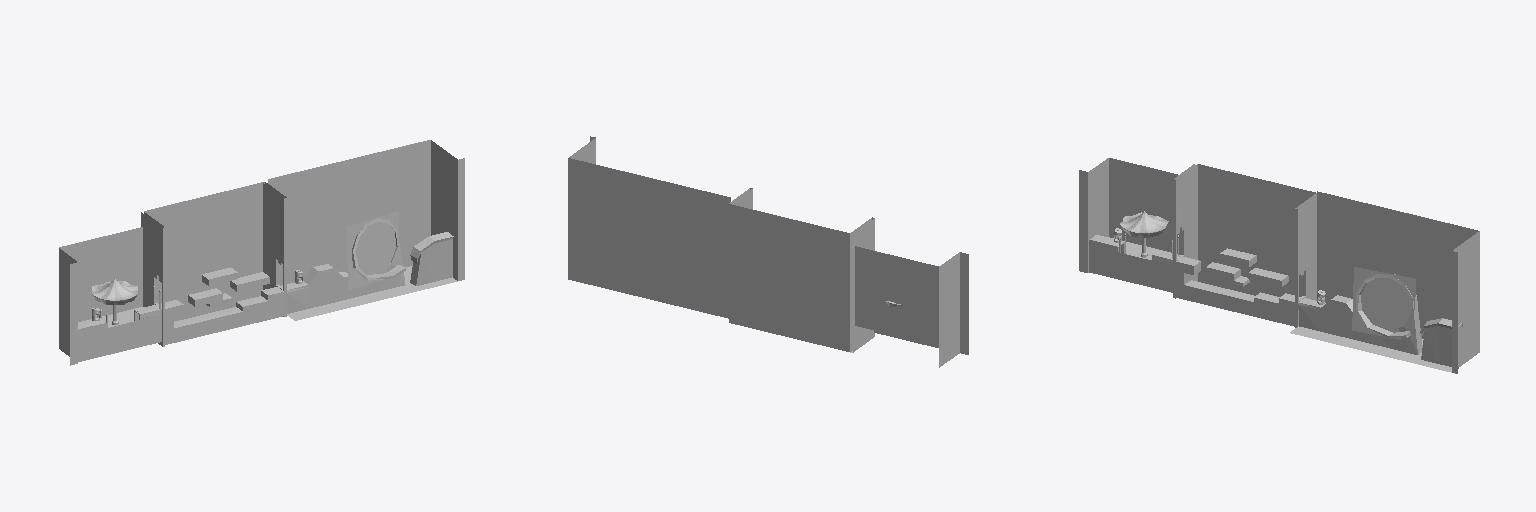
Rendered from 第三關.obj.
The picture shows the model from 3 angles: view 1: azimuth 30°, elevation 25°; view 2: azimuth 150°, elevation 25°; view 3: azimuth 330°, elevation 25°; orthographic projection.
Parts seen in each view (by area): view 1: default, Plane018; view 2: default; view 3: default, Plane018.
Boxes of the visible parts, box(x1,y1,x2,y2) form: default: box(59, 140, 464, 365); Plane018: box(347, 211, 398, 289); default: box(568, 136, 968, 367); default: box(1079, 158, 1479, 373); Plane018: box(1352, 267, 1415, 339).
Bounding box in the file's own units: 137110 × 41767 × 18539.